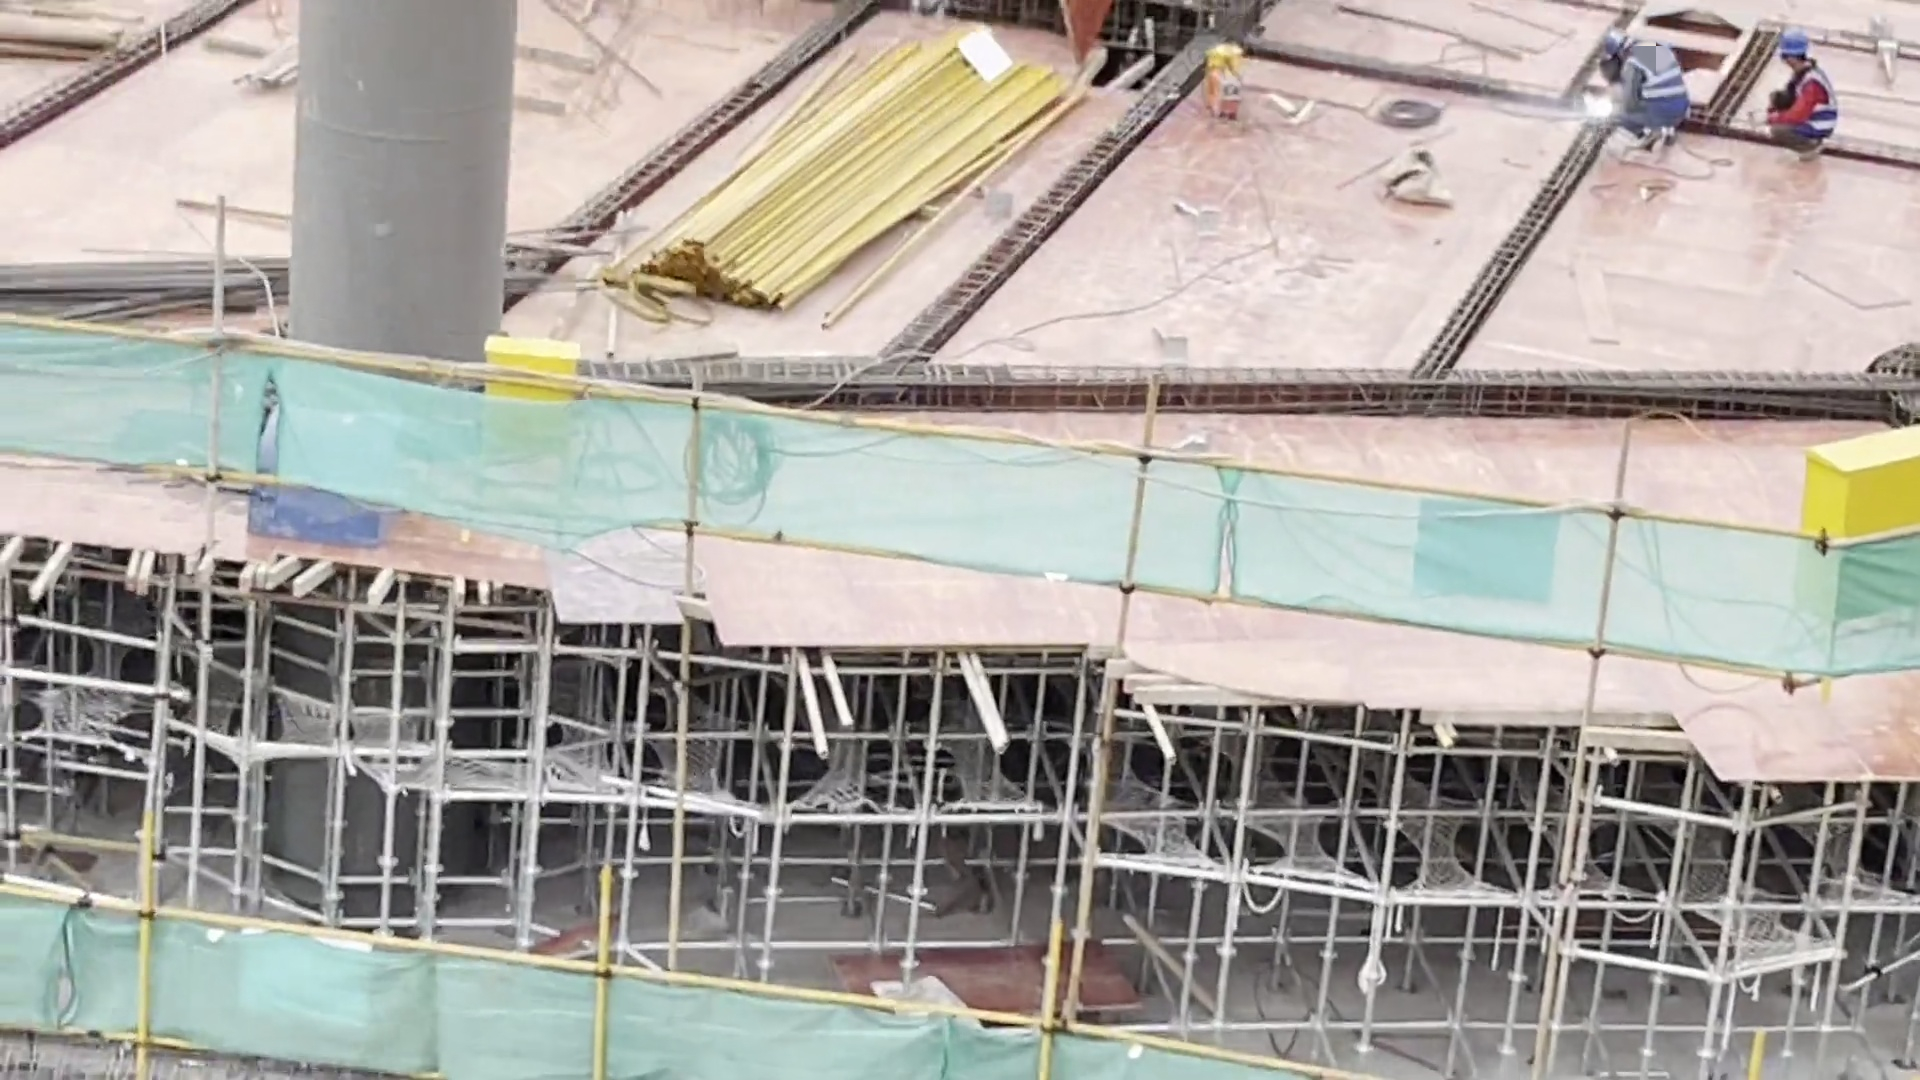helmet: (1601, 24, 1629, 59), (1779, 27, 1809, 56)
person: (1598, 23, 1691, 159), (1768, 19, 1848, 166)
vest: (1625, 39, 1690, 129), (1779, 66, 1845, 140)
